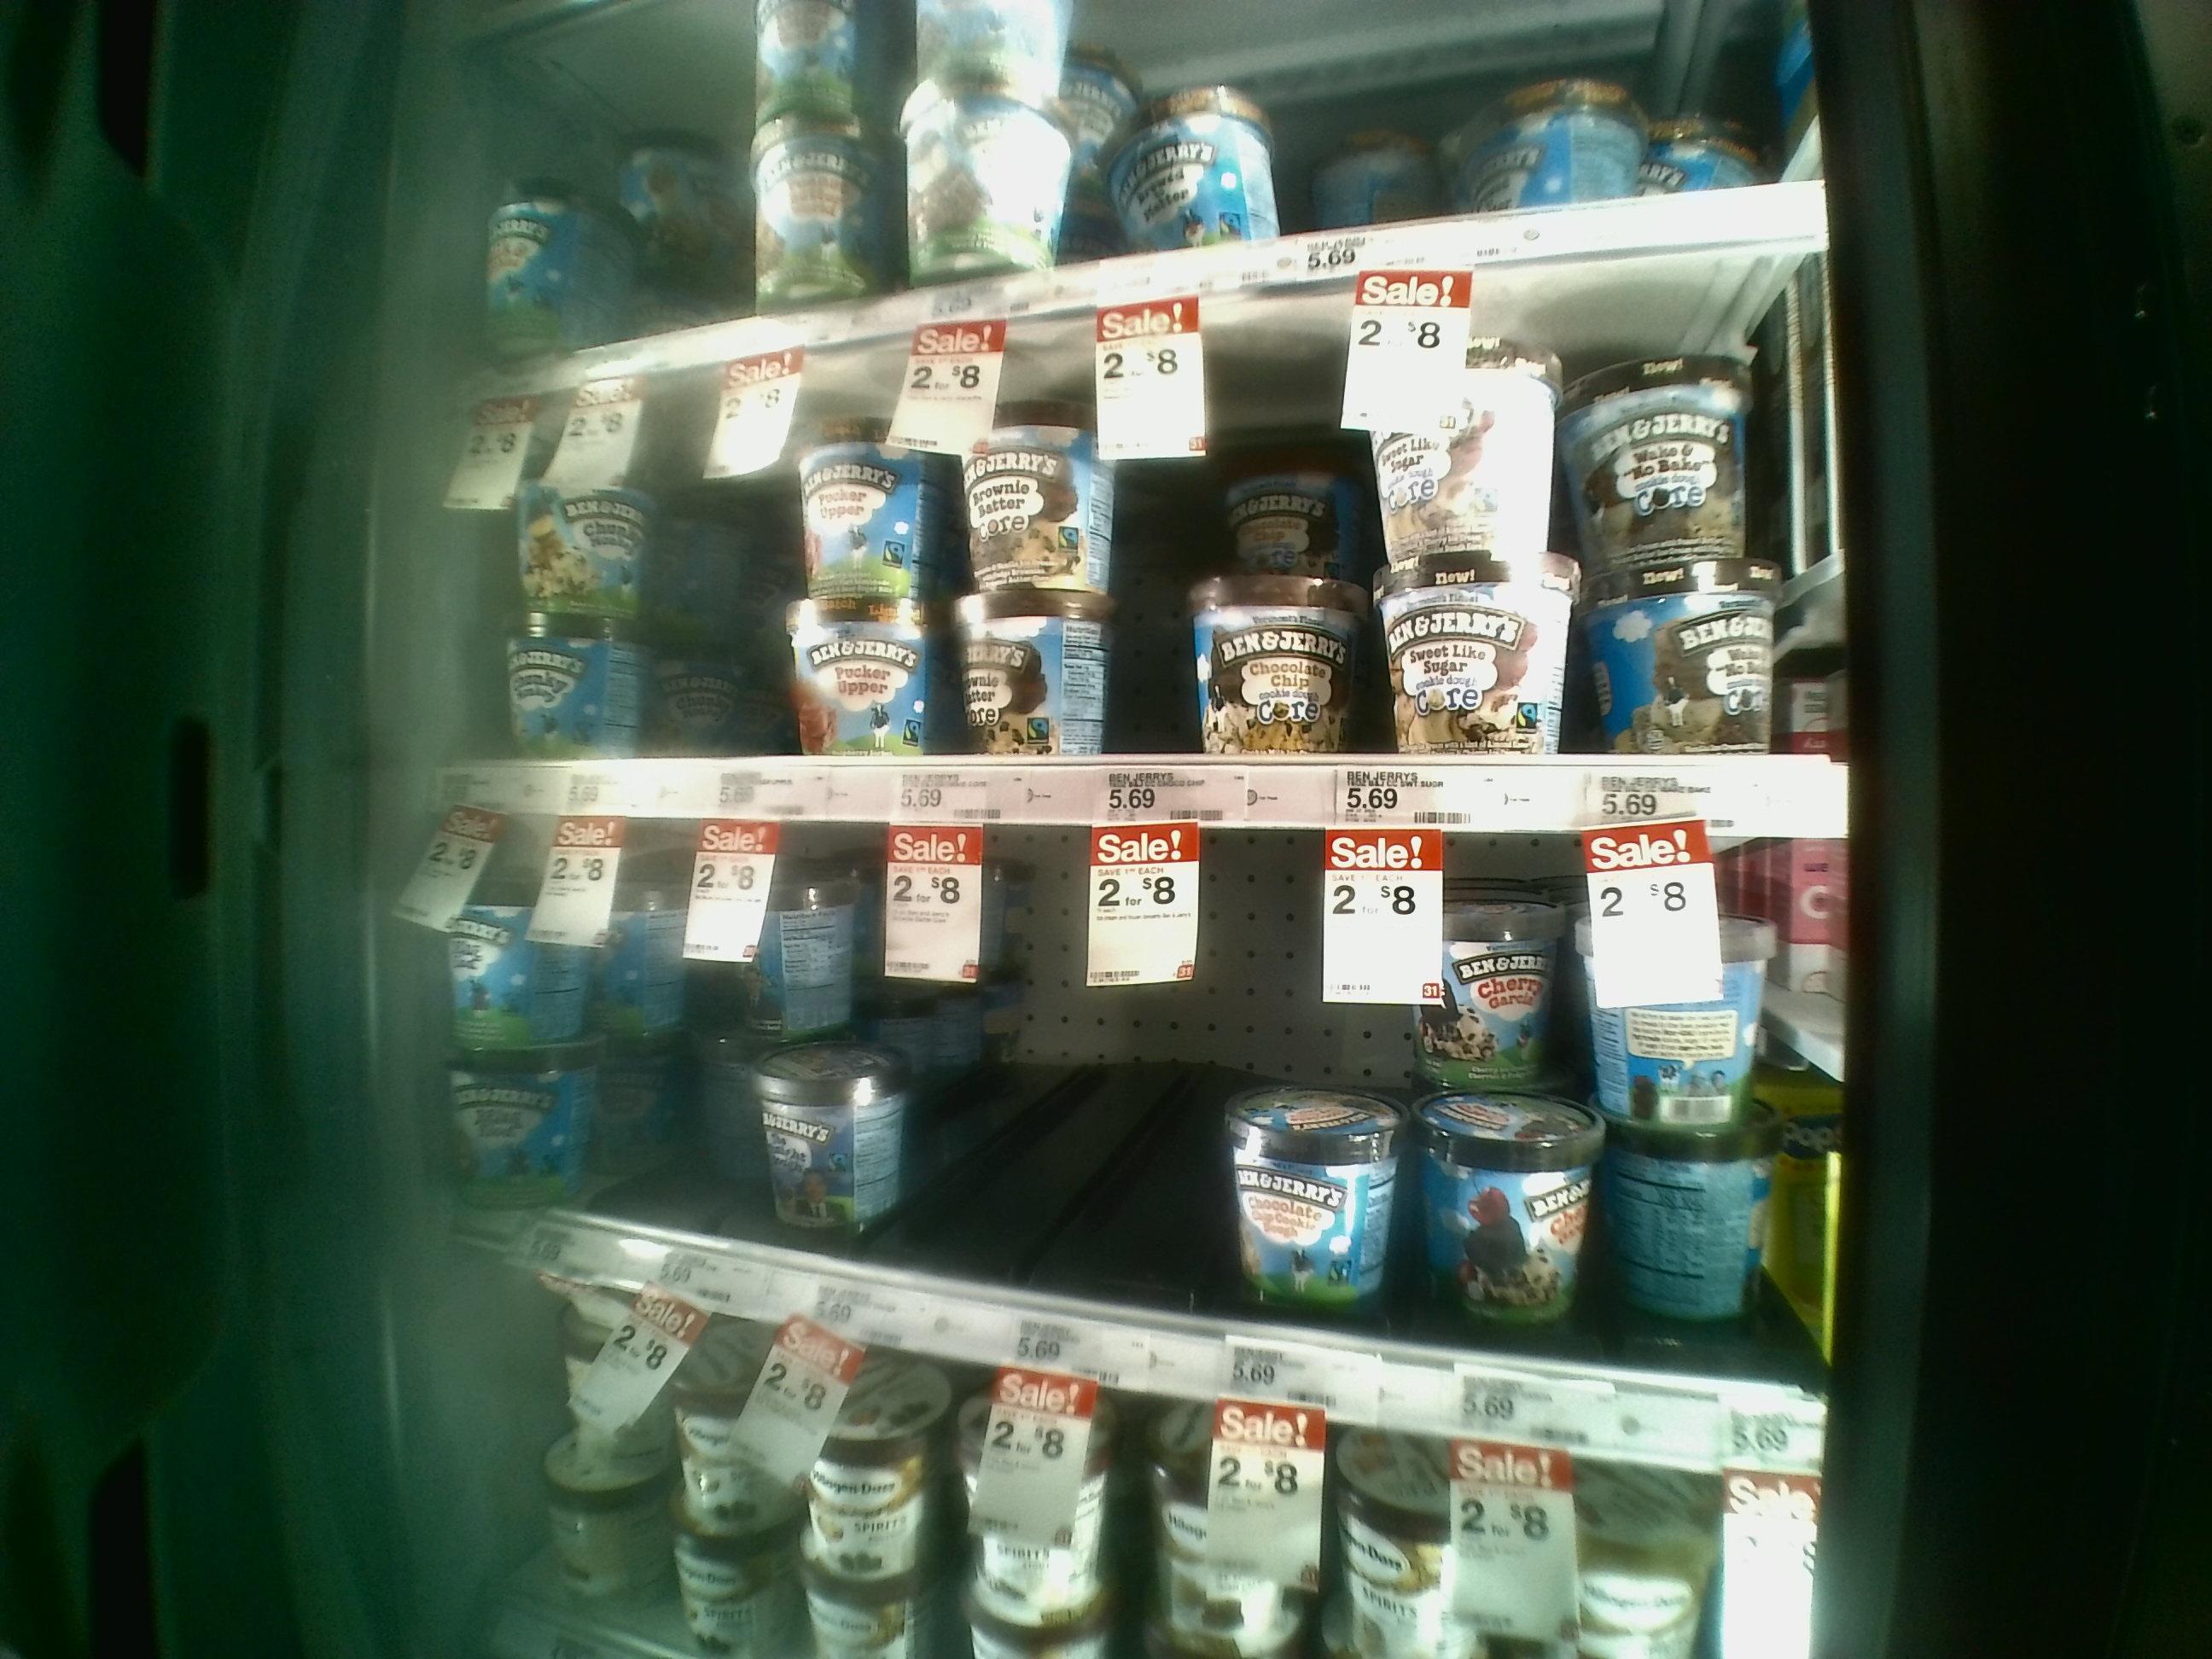shelf: (441, 829, 1827, 1485), (435, 237, 1846, 838)
